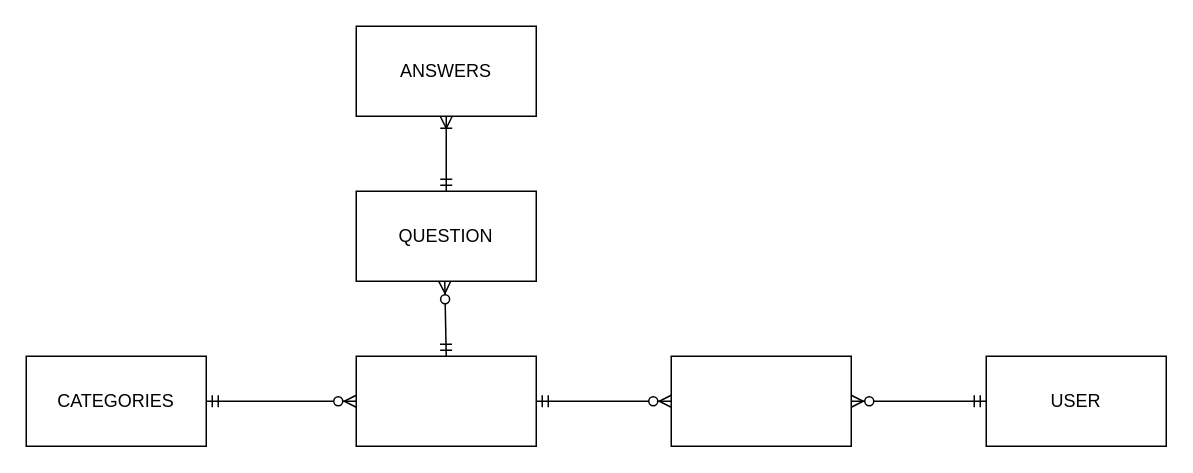
Some shapes in this 1193 by 473 pixel diagram are drawn without their labels. The shapes that lost their labels are listed below. From the top down, each one's centre as x and y in pixels, then its label:
At point (445, 400): "TEST".
At point (760, 400): "USERTEST".
